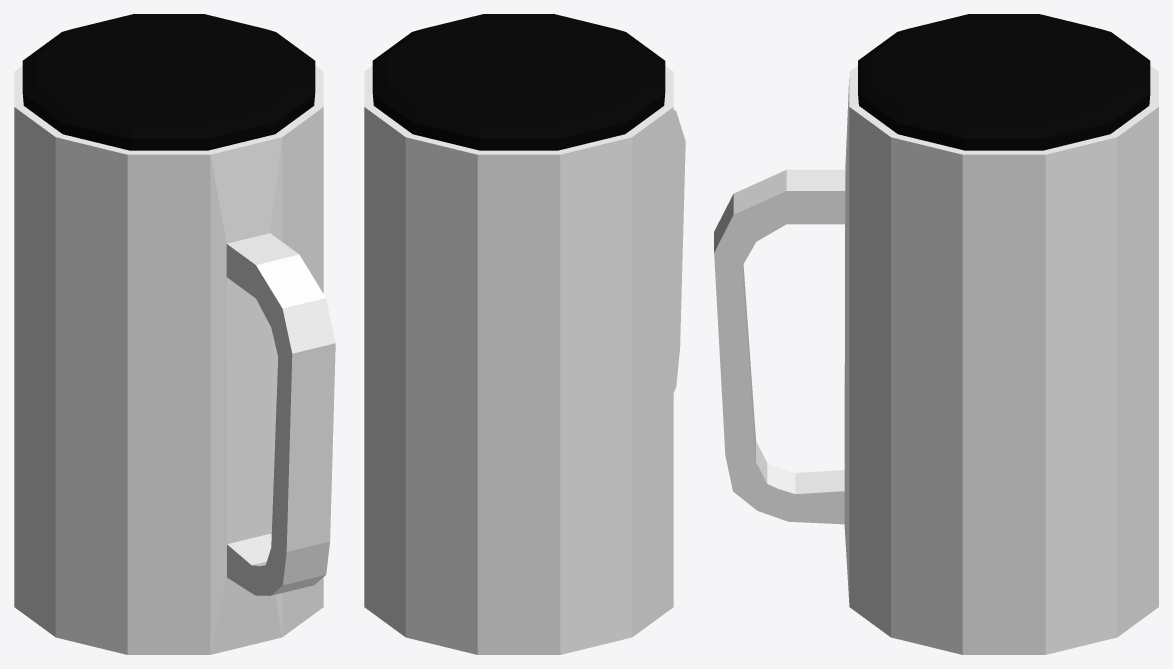
Rendered from beer_mug.obj.
3 renders of one model, left to right at view 1: azimuth 30°, elevation 25°; view 2: azimuth 150°, elevation 25°; view 3: azimuth 270°, elevation 25°, orthographic.
Parts seen in each view (by area): view 1: liquid, beer_selection; view 2: liquid, beer_selection; view 3: liquid, beer_selection.
Part boxes in pixels (x1=…): liquid: x1=14, y1=66, x2=335, y2=654; beer_selection: x1=22, y1=14, x2=315, y2=150; liquid: x1=364, y1=66, x2=685, y2=654; beer_selection: x1=372, y1=14, x2=665, y2=150; liquid: x1=714, y1=66, x2=1158, y2=654; beer_selection: x1=858, y1=14, x2=1150, y2=150.
Bounding box in the file's own units: 0.2313 × 0.4287 × 0.3324.
Materials: 1 (1 with a texture image).
